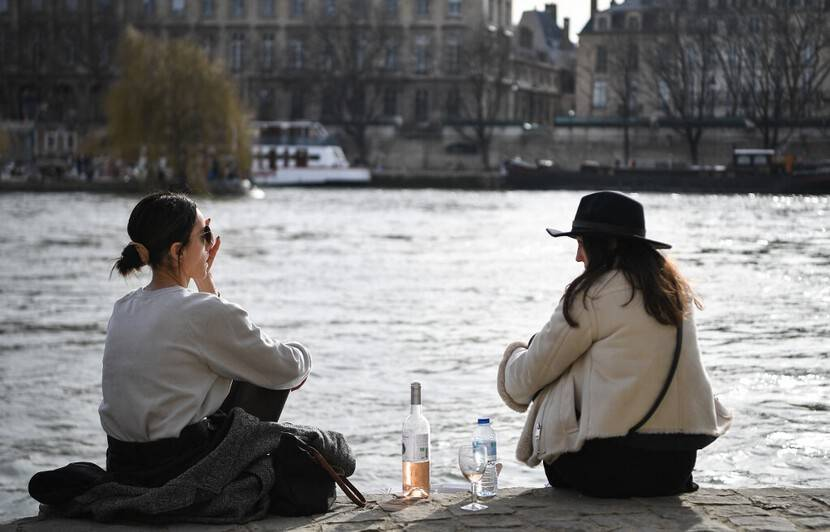without_mask: (175, 214, 210, 278), (573, 235, 612, 275)
